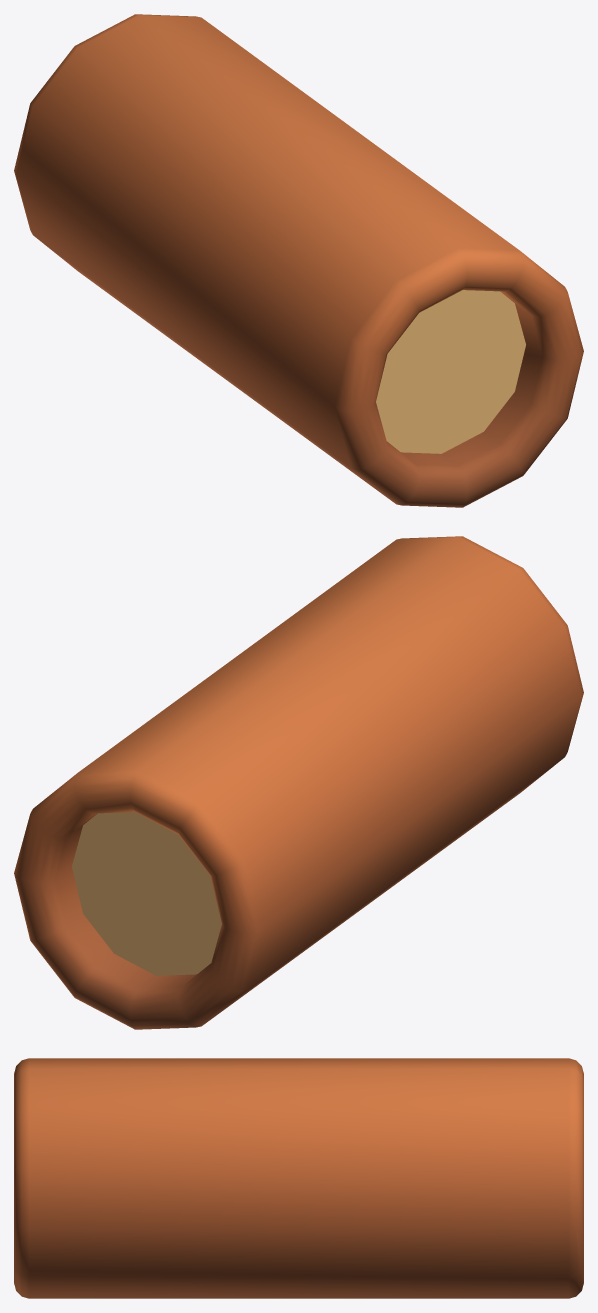
The model's file is WoodLog.fbx.
The picture shows the model from 3 angles, top to bottom: view 1: azimuth 30°, elevation 25°; view 2: azimuth 150°, elevation 25°; view 3: azimuth 270°, elevation 25°; orthographic projection. The views are drawn at different scales.
Visible parts, largest first — view 1: WoodLog.004; view 2: WoodLog.004; view 3: WoodLog.004.
Part boxes in pixels (x1,y1,x2,y2): WoodLog.004: (14, 14, 583, 507); WoodLog.004: (14, 536, 583, 1029); WoodLog.004: (14, 1058, 583, 1298).
Bounding box in the file's own units: 0.2119 × 0.2119 × 0.5002.
